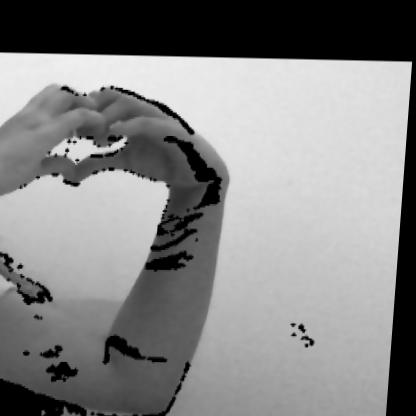heart: (0, 62, 219, 213)
